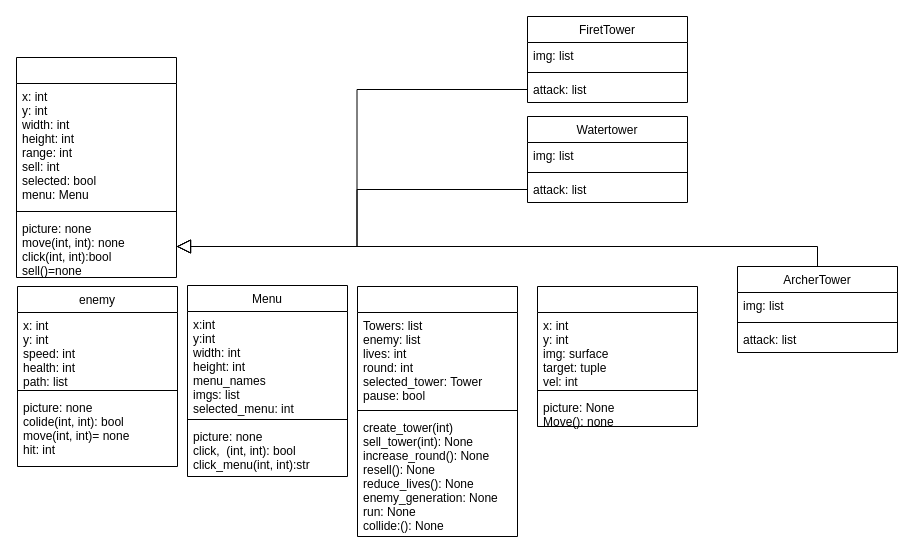
Some shapes in this 914 by 553 pixel diagram are drawn without their labels. Here are the shapes that lost their labels. From the top down, the box of each, then its label:
(16, 56, 176, 278): Tower
(536, 286, 698, 426): Projectile
(356, 286, 518, 536): Game
